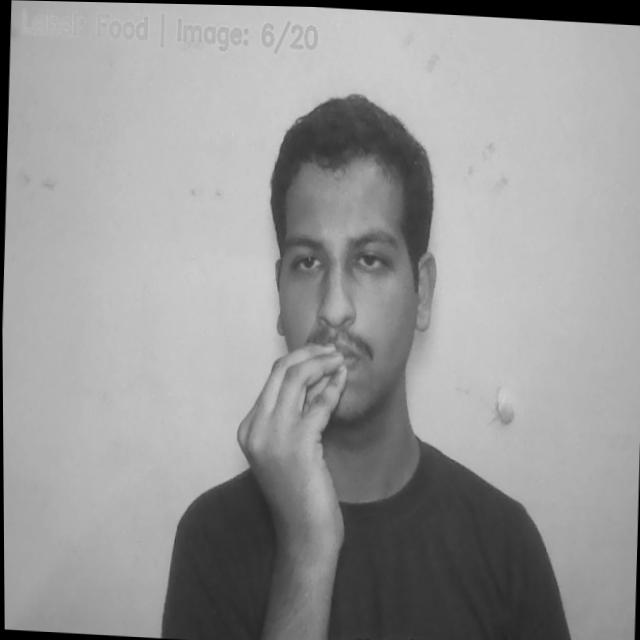Food: (228, 337, 349, 591)
